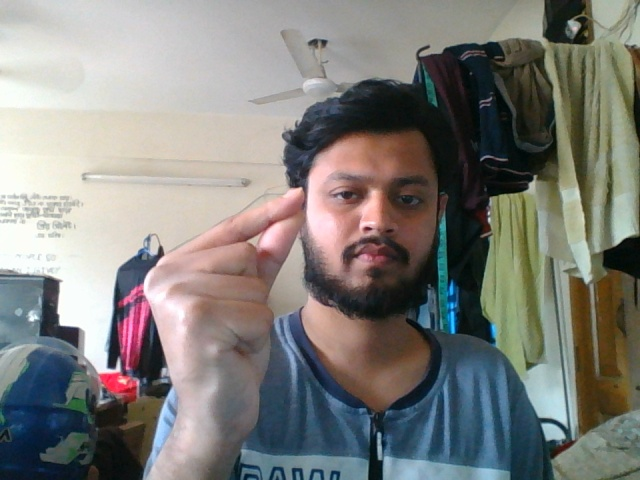onushhar: (142, 184, 310, 445)
